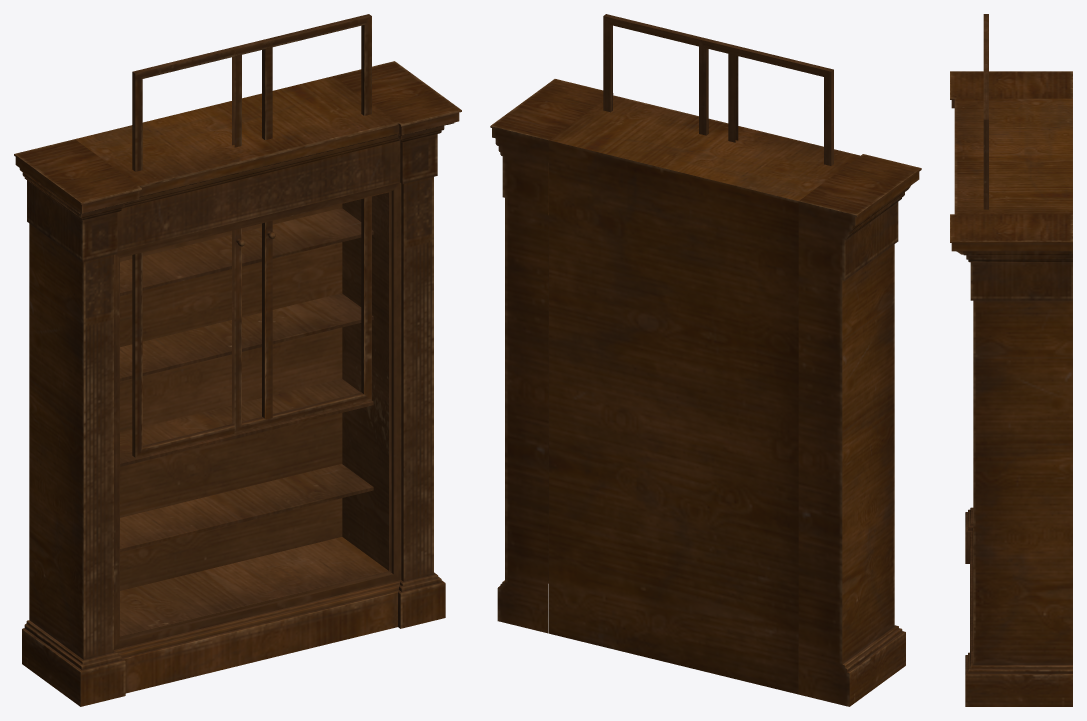
File: victorian-cabinet-81291e.glb
3 views of the same model, side by side, from view 1: azimuth 30°, elevation 25°; view 2: azimuth 150°, elevation 25°; view 3: azimuth 270°, elevation 25° (orthographic). The views are drawn at different scales.
Visible parts, largest first — view 1: PropMesh; view 2: PropMesh; view 3: PropMesh.
Part boxes in pixels (x1,y1,x2,y2): PropMesh: (14,14,461,706); PropMesh: (490,14,921,706); PropMesh: (950,14,1072,706).
Bounding box in the file's own units: 1.44 × 2.2 × 0.4384.
1 material, 1 textured.
